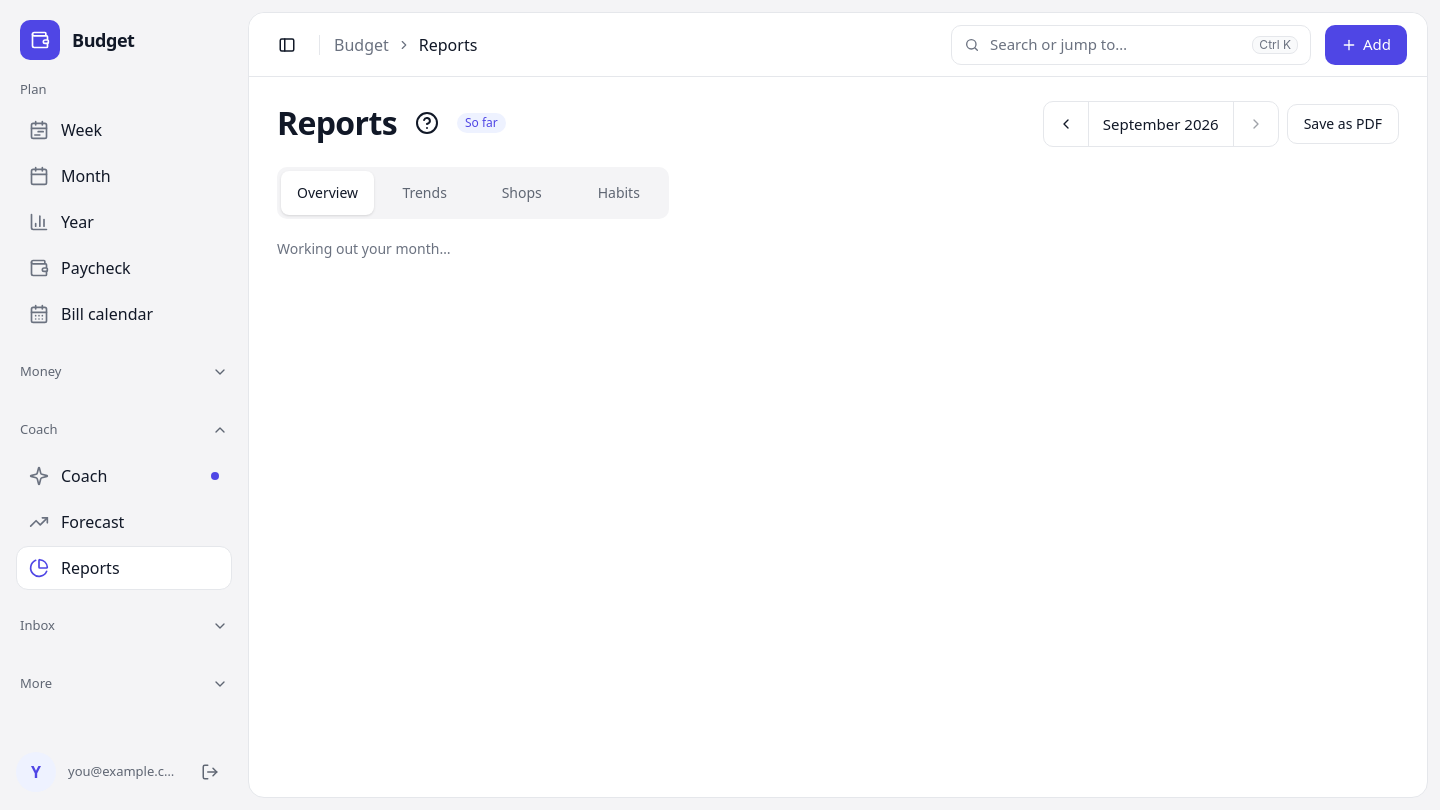
Scenario: Reports, Trends (plan §2.6, A16) › says when trends become possible, before any month is whole
Click the tab "Trends" at (425, 193), box [378,171,471,215]
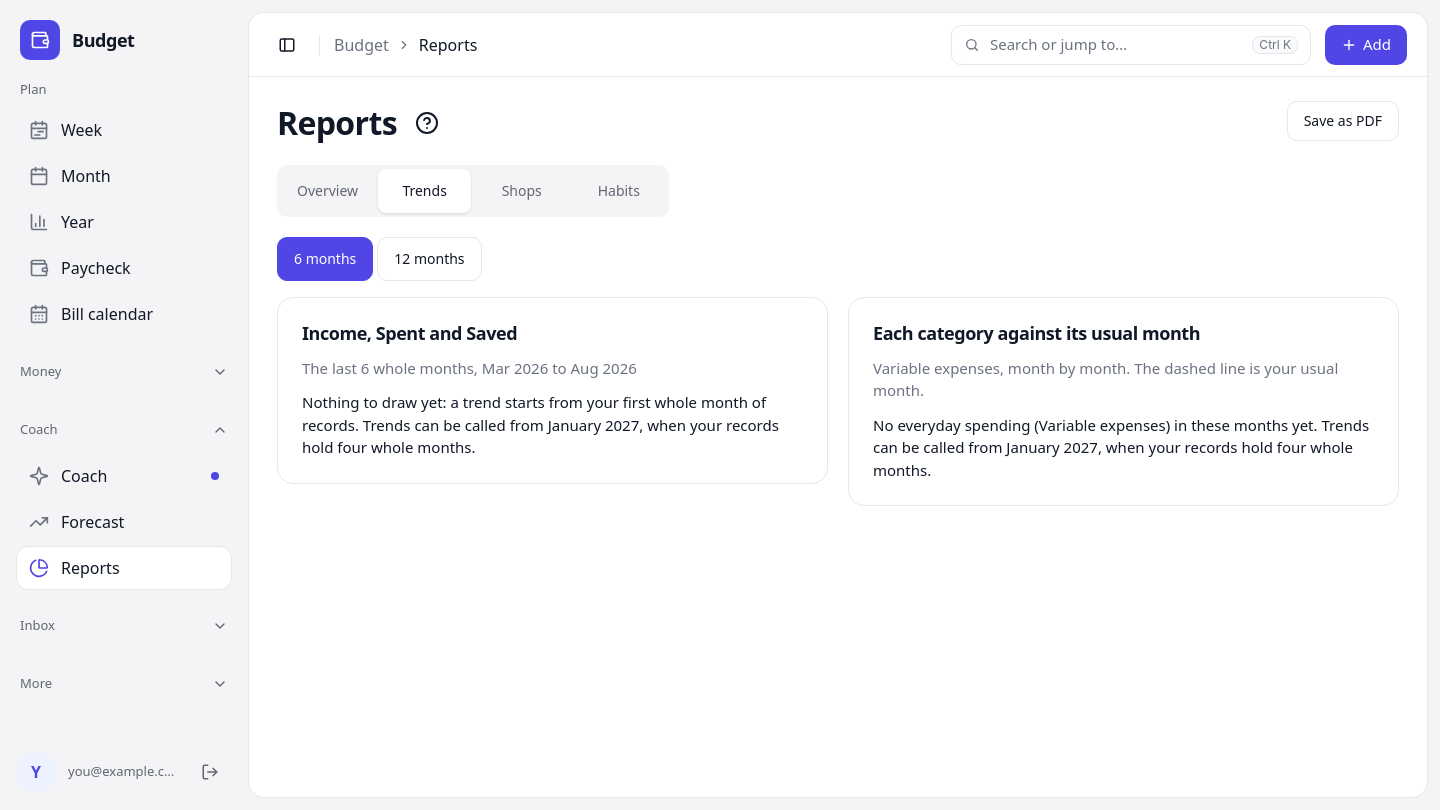
Expected: the text "Nothing to draw yet: a trend starts from your first whole month of records. Trends can be called from January 2027, when" is shown, [302,391,803,458]
